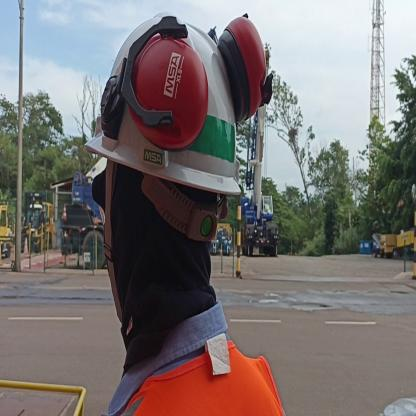Balaclava: (108, 160, 223, 327)
Capacete: (96, 15, 252, 184)
